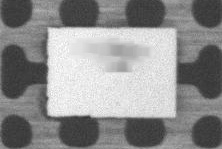DIE_INK: (68, 37, 158, 76)
